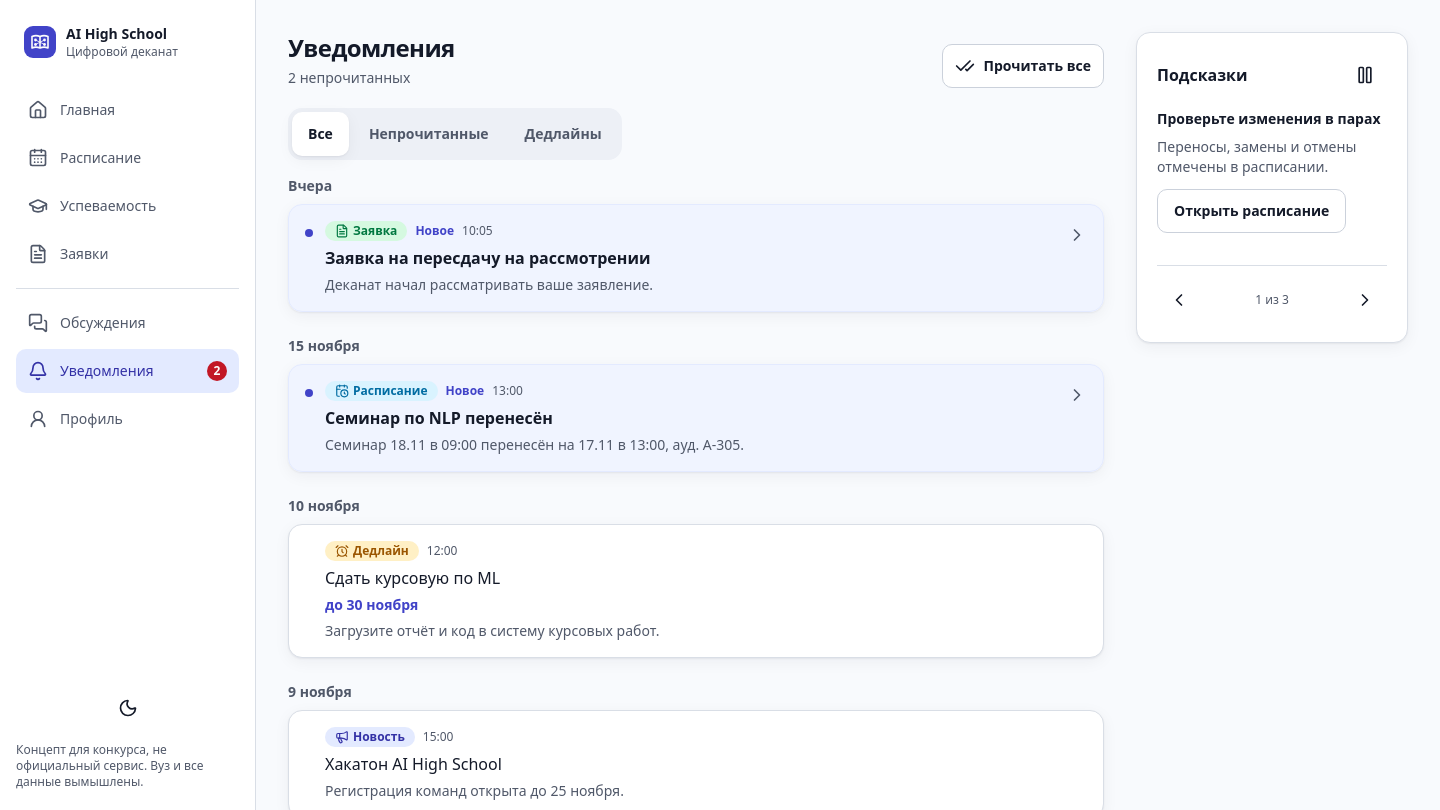
it: NotificationsPage › бейдж в навигации показывает число непрочитанных и уменьшается после перехода по уведомлению
The image size is (1440, 810).
Expected: the element "Вчера" is shown, [288,176,1104,312]
Step 1. Click the link "Заявка на пересдачу на рассмотрении" → (366, 231), box [288,204,1104,312]
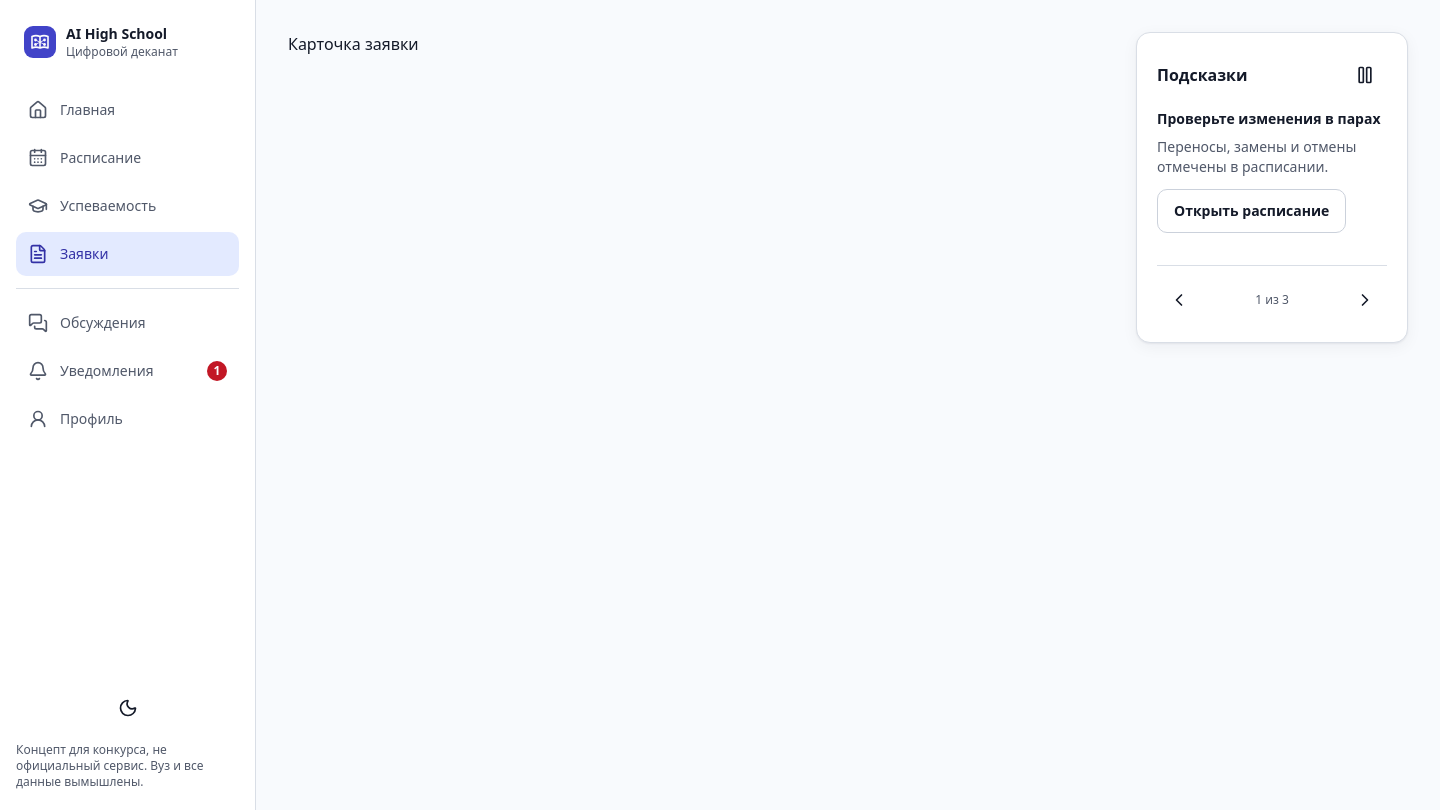
Result: the number of links named "Уведомления, 1 непрочитанное" is 2
